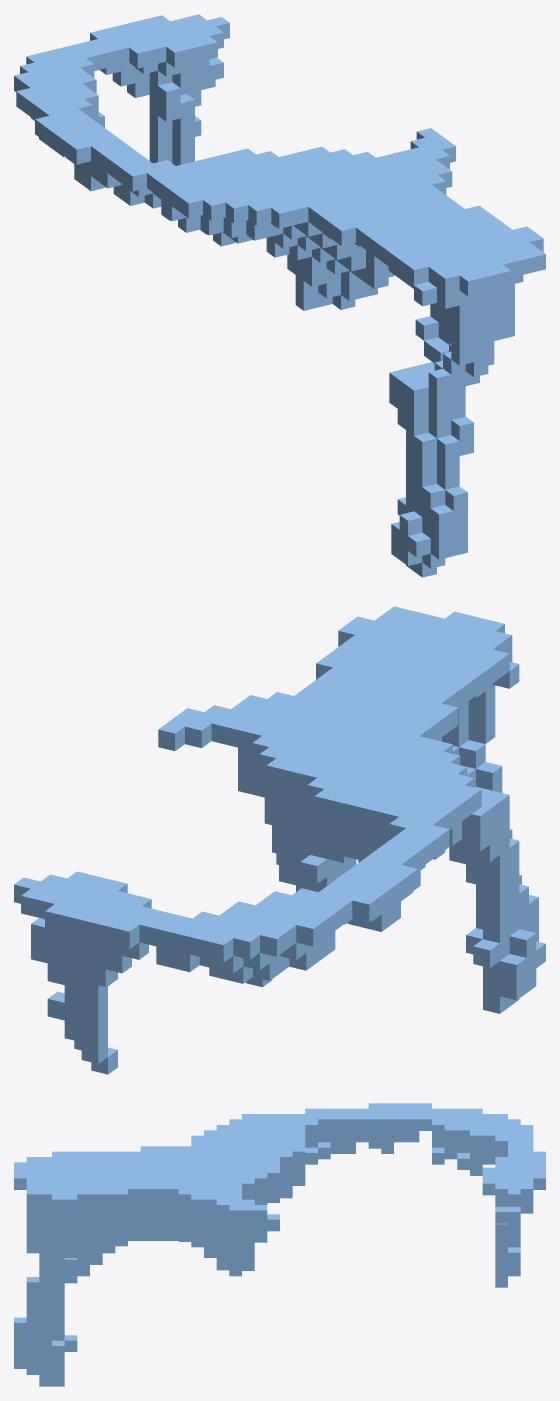
Rendered from flowerIsland.obj.
The picture shows the model from 3 angles, top to bottom: view 1: azimuth 30°, elevation 25°; view 2: azimuth 150°, elevation 25°; view 3: azimuth 270°, elevation 25°; orthographic projection. The views are drawn at different scales.
Bounding box in the file's own units: 20 × 20 × 42.
1 material, 1 textured.
